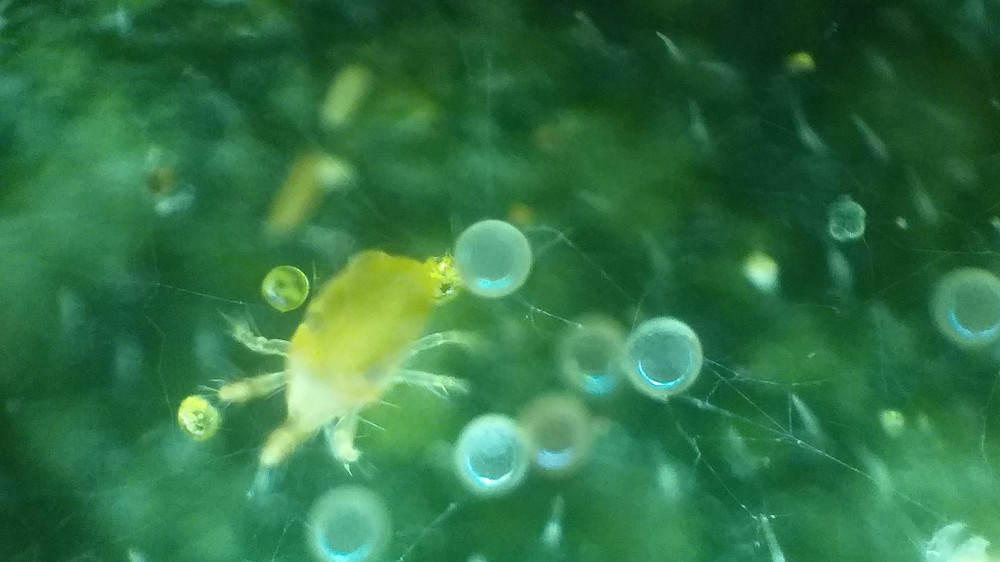Aracnido Rojo: (208, 249, 486, 491)
